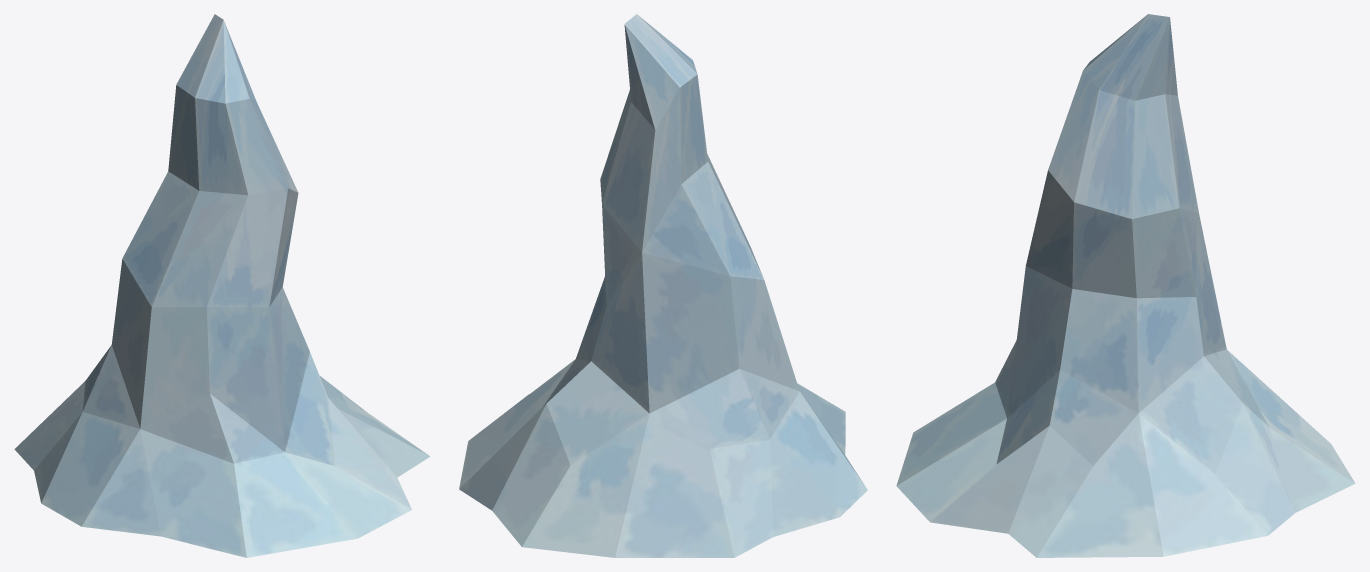
The model's file is cavepillar5.fbx.
3 views of the same model, side by side, from view 1: azimuth 30°, elevation 25°; view 2: azimuth 150°, elevation 25°; view 3: azimuth 270°, elevation 25° (orthographic). The views are drawn at different scales.
Visible parts, largest first — view 1: Cube.004; view 2: Cube.004; view 3: Cube.004.
Part boxes in pixels (bbox=[...]): Cube.004: bbox=[14, 14, 430, 557]; Cube.004: bbox=[459, 14, 867, 557]; Cube.004: bbox=[896, 14, 1355, 557].
Size of the model in its own units: 815 by 993 by 891.
